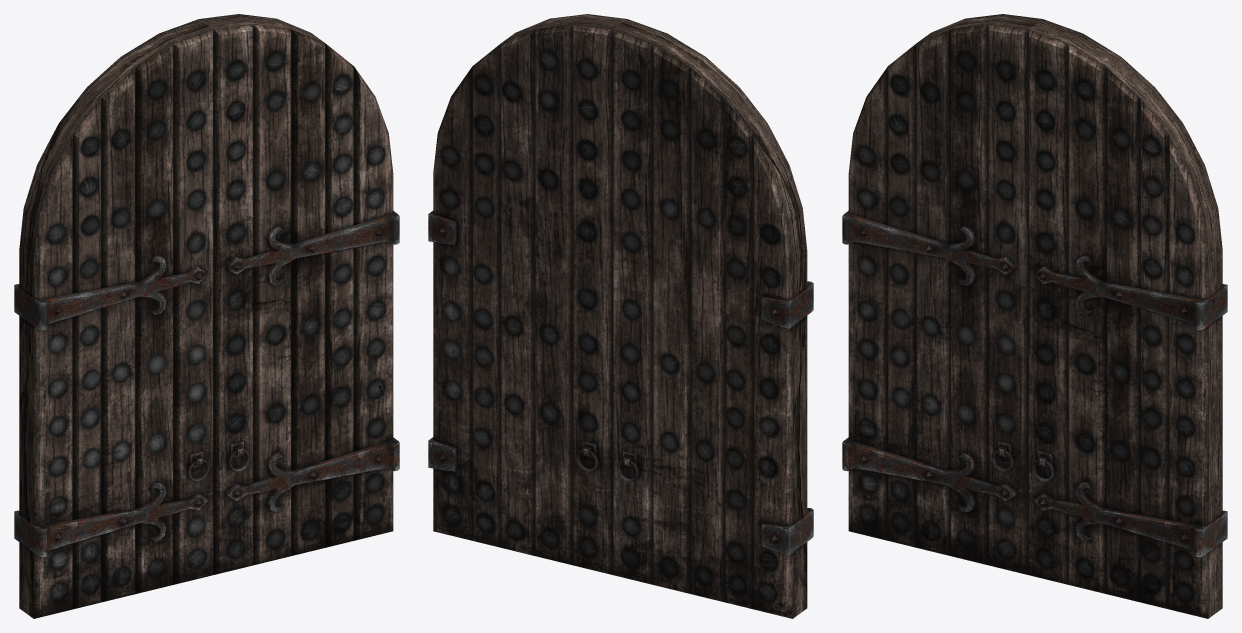
The model's file is castle_gate_arched01.dae.
The picture shows the model from 3 angles, left to right: view 1: azimuth 30°, elevation 25°; view 2: azimuth 150°, elevation 25°; view 3: azimuth 330°, elevation 25°; orthographic projection.
Visible parts, largest first — view 1: castle_gate_arched01_left_door, castle_gate_arched01_right_door; view 2: castle_gate_arched01_left_door, castle_gate_arched01_right_door; view 3: castle_gate_arched01_right_door, castle_gate_arched01_left_door.
Part boxes in pixels (box(x1,y1,x2,y2)): castle_gate_arched01_left_door: box(14, 19, 213, 618); castle_gate_arched01_right_door: box(199, 14, 399, 574); castle_gate_arched01_left_door: box(613, 19, 813, 618); castle_gate_arched01_right_door: box(428, 14, 626, 574); castle_gate_arched01_right_door: box(1028, 19, 1227, 618); castle_gate_arched01_left_door: box(842, 14, 1042, 574).
Bounding box in the file's own units: 3.8 × 5.5 × 0.5536.
